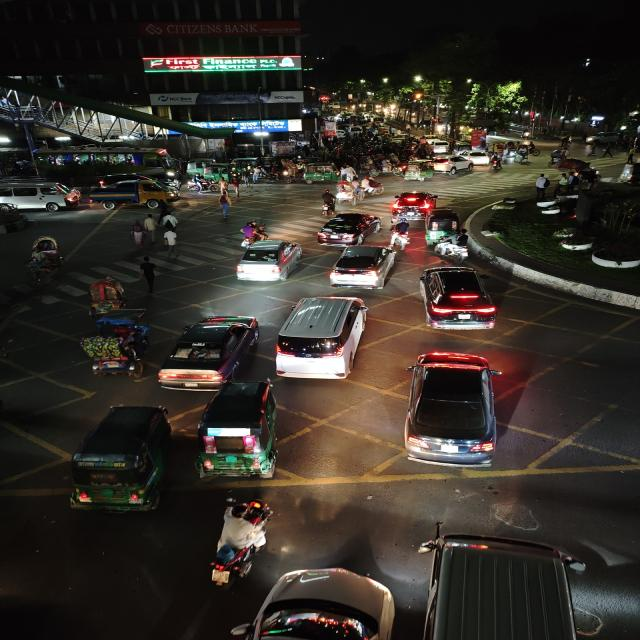car: (415, 531, 593, 640), (221, 564, 410, 640), (399, 349, 506, 471), (272, 292, 375, 386), (155, 312, 262, 390), (414, 263, 502, 333), (232, 238, 306, 284), (328, 243, 401, 289), (0, 180, 80, 214), (315, 210, 382, 248), (391, 190, 440, 212), (430, 154, 475, 176), (428, 141, 453, 155)
cng: (66, 402, 172, 520), (191, 379, 280, 481), (424, 208, 463, 245), (300, 160, 338, 184)
motorcycle: (205, 497, 274, 591), (433, 234, 471, 264), (237, 219, 269, 247), (389, 216, 413, 248), (362, 174, 384, 196)
pedestrian: (136, 256, 164, 292), (161, 227, 182, 258), (141, 213, 160, 247), (128, 218, 148, 250), (213, 191, 234, 221), (318, 189, 338, 217), (349, 179, 365, 205), (534, 173, 551, 197), (163, 210, 181, 231)
pickup_van: (86, 174, 184, 208)
rickshaw: (70, 324, 150, 382), (19, 235, 69, 285), (80, 272, 132, 316), (400, 163, 428, 182), (516, 145, 530, 166)
